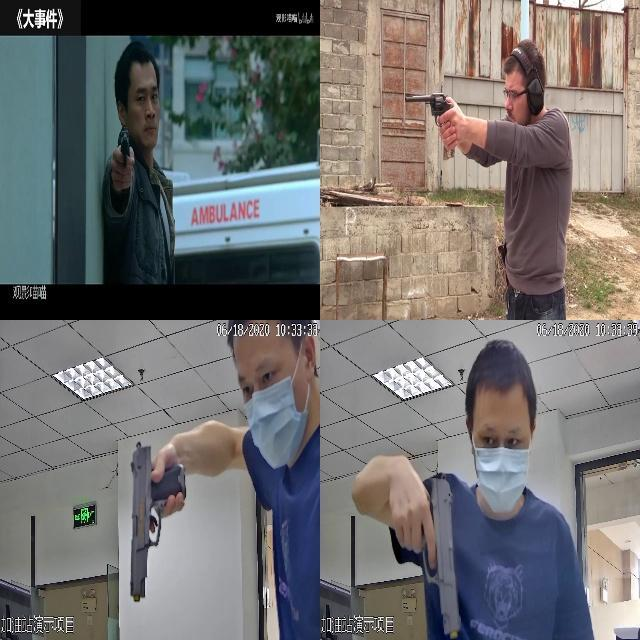gun-knife-thesis - v11 Yolov5 augmented: (389, 473, 462, 638), (128, 439, 184, 601), (401, 84, 466, 157), (106, 126, 137, 195)
